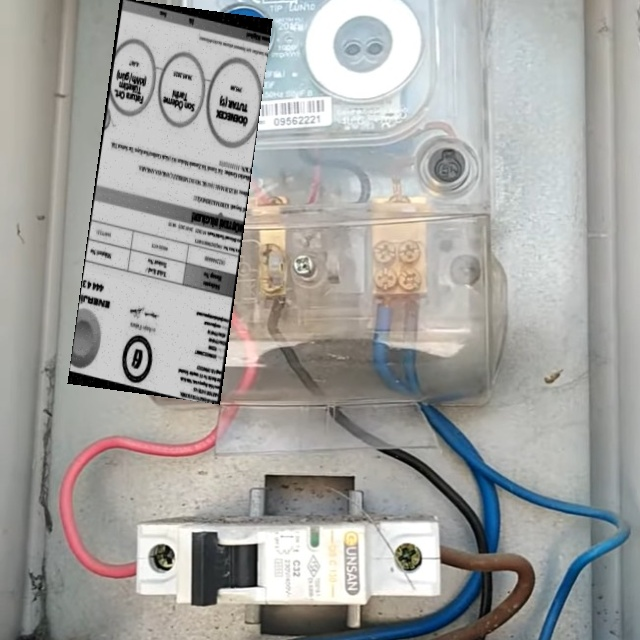electricity-bill: (67, 0, 273, 404)
